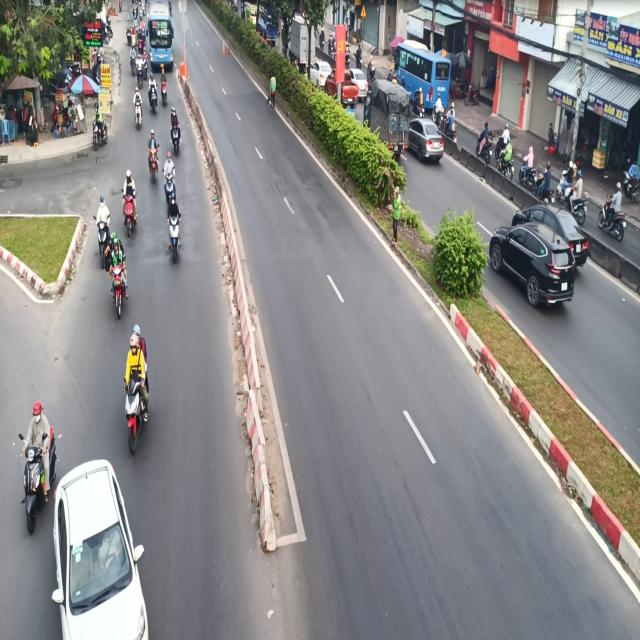bus: (147, 1, 176, 71)
car: (54, 460, 151, 640)
motor: (18, 400, 52, 540), (121, 320, 153, 458), (107, 231, 130, 323), (121, 162, 137, 242), (98, 190, 112, 268), (167, 197, 182, 263), (144, 128, 160, 182), (168, 107, 182, 160)
